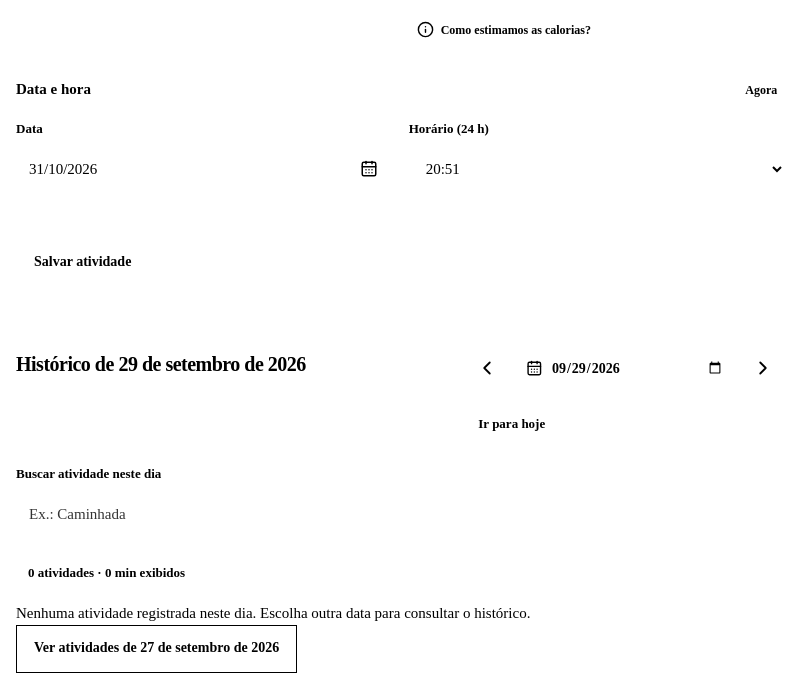
Test case: histórico de atividades por dia › não confunde dia vazio com busca sem resultados
The image size is (802, 693).
(page scrolled)
In the search field labelled "Buscar atividade neste dia": (401, 514) top-left (16, 490), bottom-right (785, 538), type "corrida"
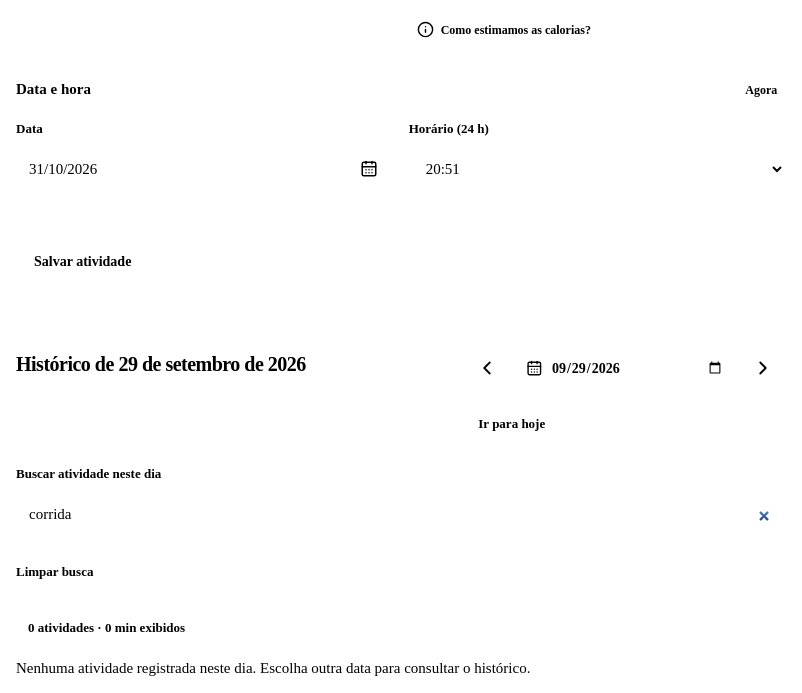
expect the button "Ver atividades de" is gone: met
